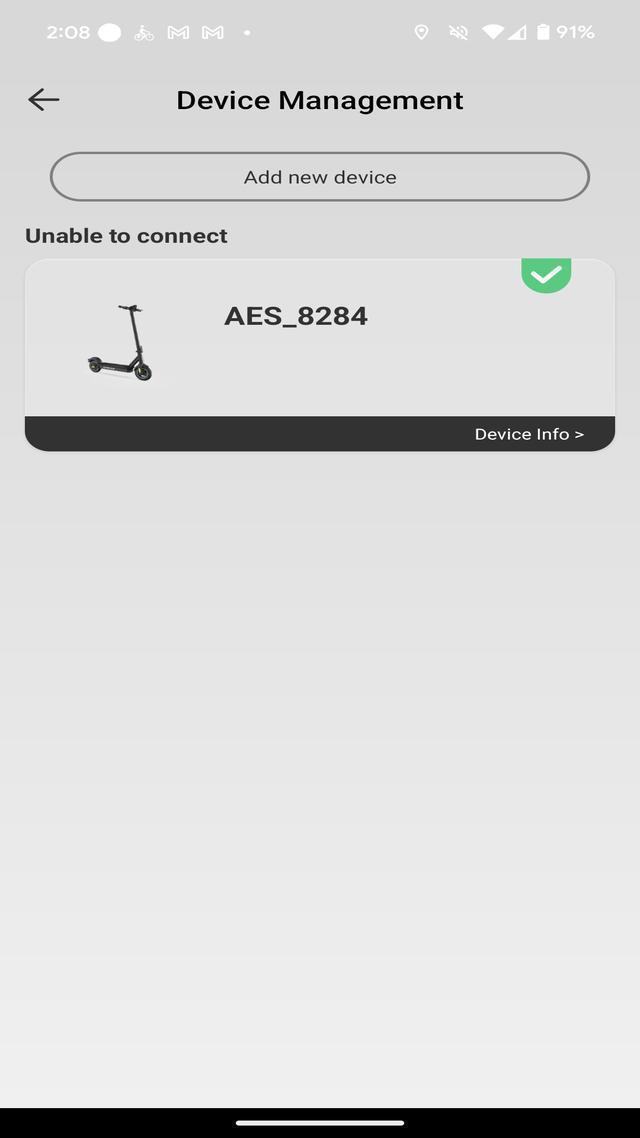ASCII: (28, 88, 62, 119)
Icon: (520, 258, 574, 297), (95, 20, 122, 44), (132, 20, 158, 44), (200, 22, 228, 44), (166, 20, 194, 42), (444, 22, 471, 44), (479, 20, 504, 42), (535, 18, 551, 44), (507, 24, 528, 42), (414, 23, 430, 44), (241, 28, 254, 36)
Image: (86, 297, 158, 386)
Text: (166, 80, 474, 121), (16, 214, 240, 255), (214, 300, 376, 333), (240, 164, 398, 192), (467, 423, 588, 445), (42, 20, 92, 45), (556, 22, 600, 42)
TextButton: (48, 149, 590, 205), (25, 409, 615, 456)
